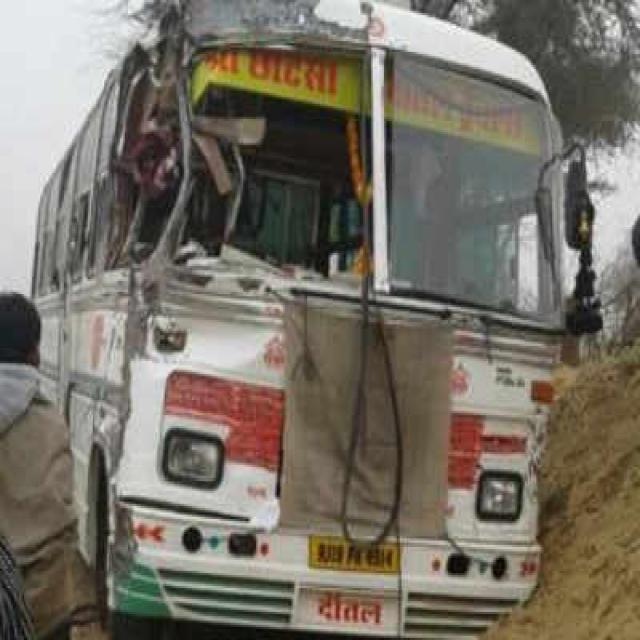accident: (32, 0, 564, 634)
